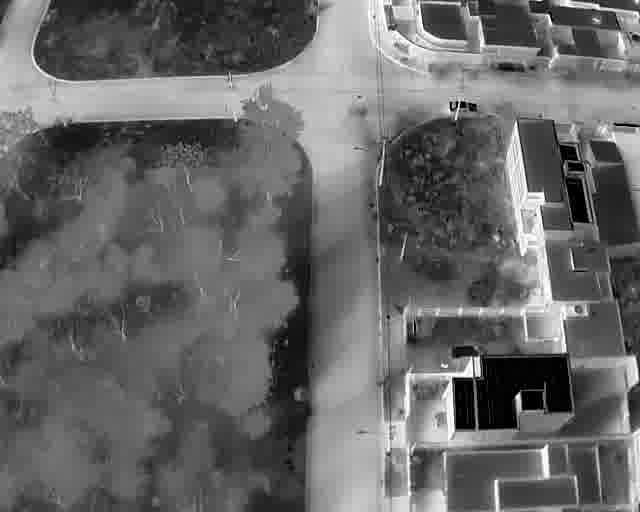car: (449, 344, 484, 362), (448, 99, 480, 114)
